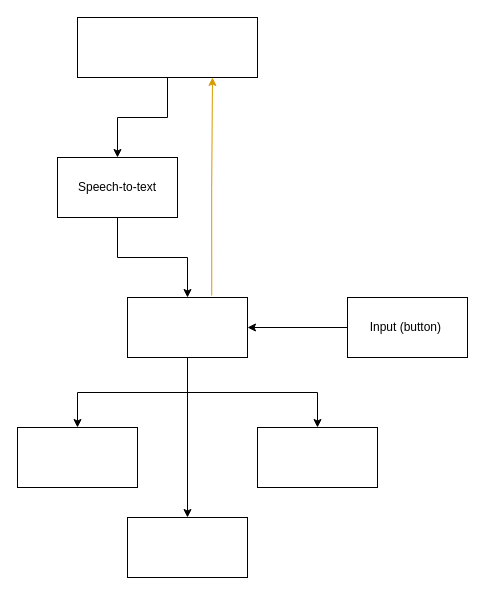
The diagram is 485 pixels wide and 595 high, and some of its shapes have lost their labels. The centre of each missing label's shape, as x and y in pixels:
"Controller" belongs at point 187,327.
"Input (voice)" belongs at point 167,47.
